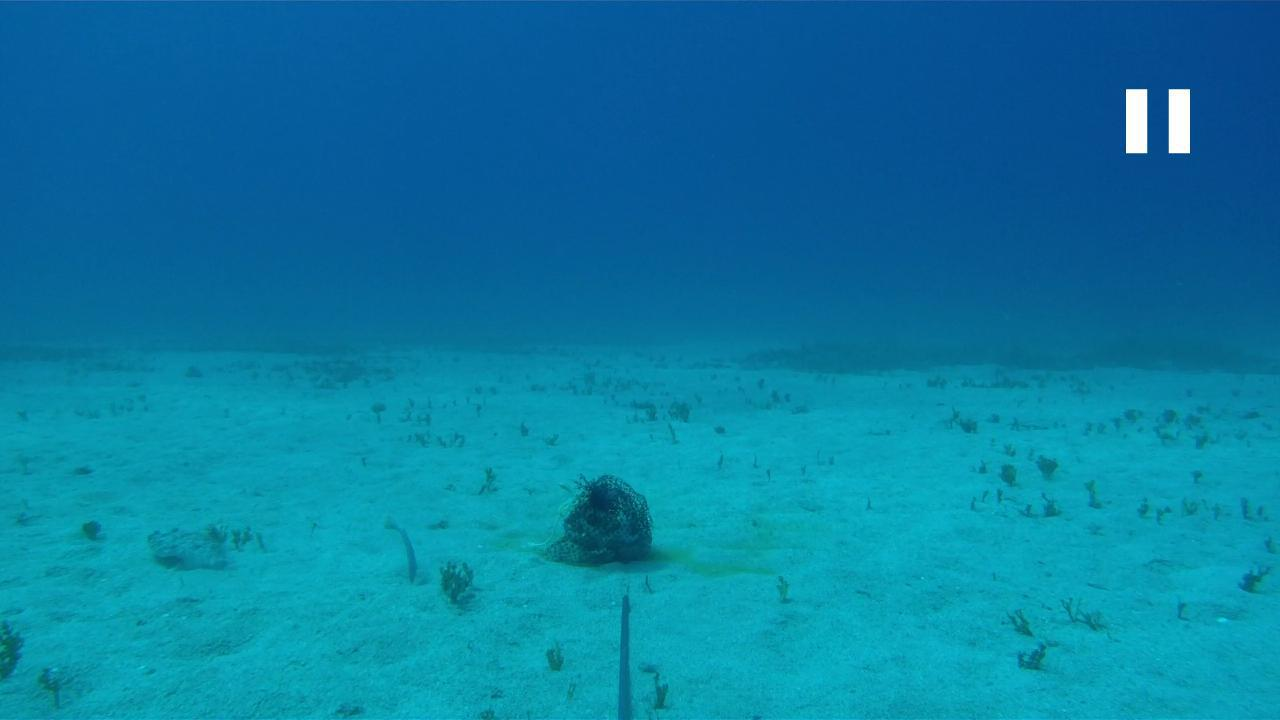bothus: (144, 526, 228, 570)
